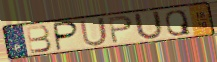B: (24, 24, 53, 55)
P: (106, 14, 135, 45), (53, 20, 81, 52)
Q: (164, 8, 193, 37)
U: (133, 10, 166, 42), (78, 16, 110, 47)
